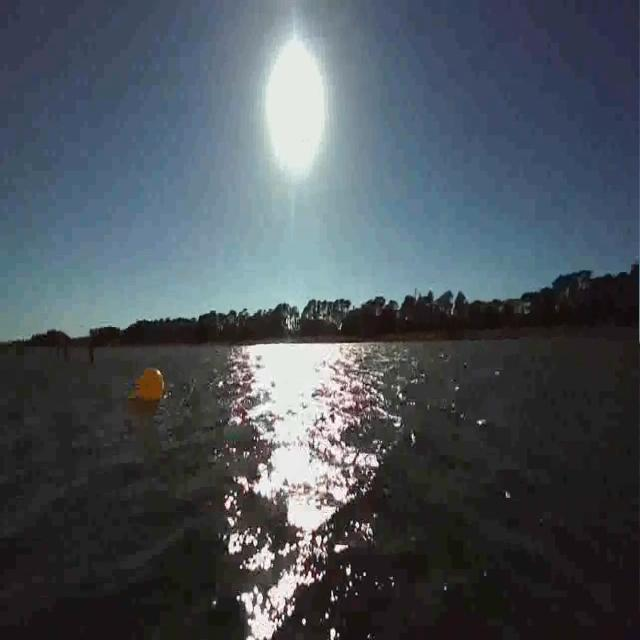yellow-buoy: (130, 367, 165, 403)
